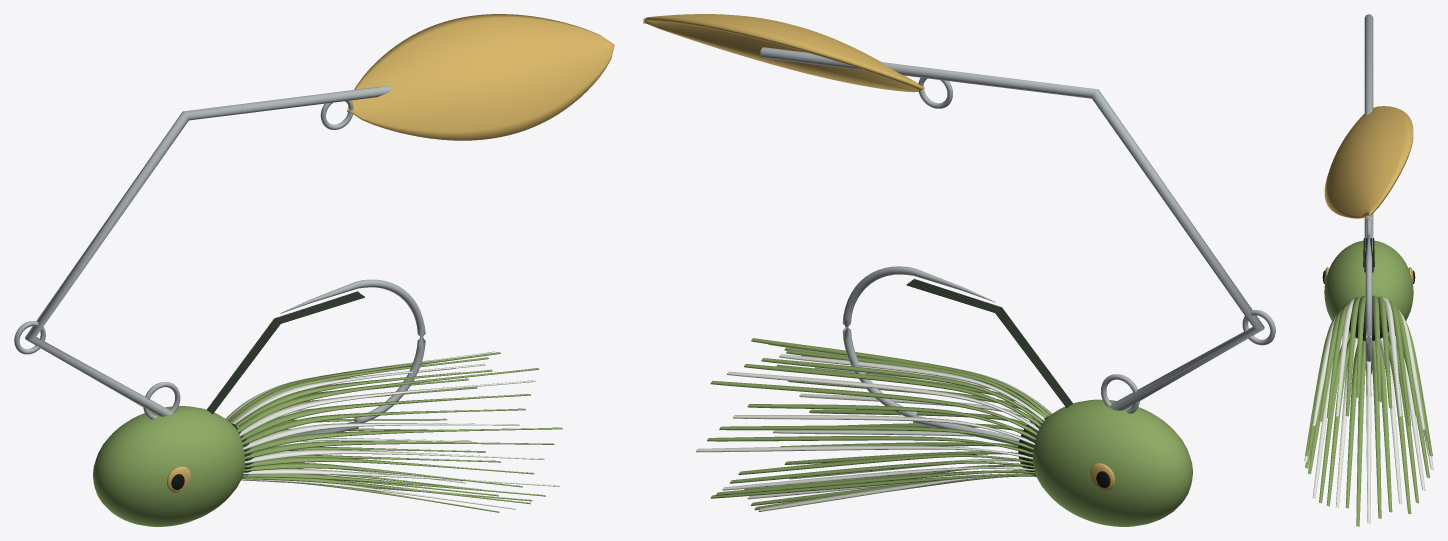
The model's file is spinnerbait.glb.
3 views of the same model, side by side, from view 1: azimuth 30°, elevation 25°; view 2: azimuth 150°, elevation 25°; view 3: azimuth 270°, elevation 25° (orthographic). The views are drawn at different scales.
Visible parts, largest first — view 1: spinnerbait specimen; view 2: spinnerbait specimen; view 3: spinnerbait specimen.
Part boxes in pixels (<box>): spinnerbait specimen: <box>14,14,614,526</box>; spinnerbait specimen: <box>643,14,1275,526</box>; spinnerbait specimen: <box>1304,14,1433,526</box>.
Size of the model in its own units: 1.5 by 1.12 by 0.3485.
